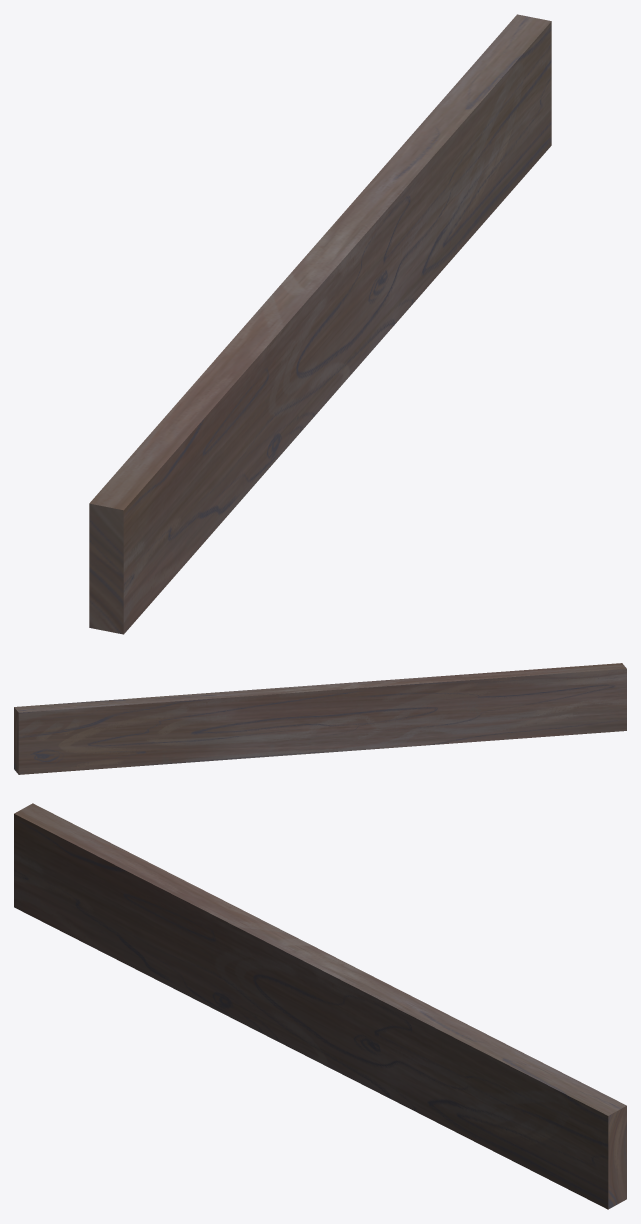
File: long_board_019.fbx
The picture shows the model from 3 angles, top to bottom: view 1: azimuth 30°, elevation 25°; view 2: azimuth 150°, elevation 25°; view 3: azimuth 270°, elevation 25°; orthographic projection. The views are drawn at different scales.
Parts seen in each view (by area): view 1: long board.019; view 2: long board.019; view 3: long board.019.
Boxes of the visible parts, x1,y1,x2,y2 form: long board.019: (89,14,551,634); long board.019: (14,663,626,774); long board.019: (14,803,626,1209).
Size of the model in its own units: 72.23 by 10.41 by 60.27.
